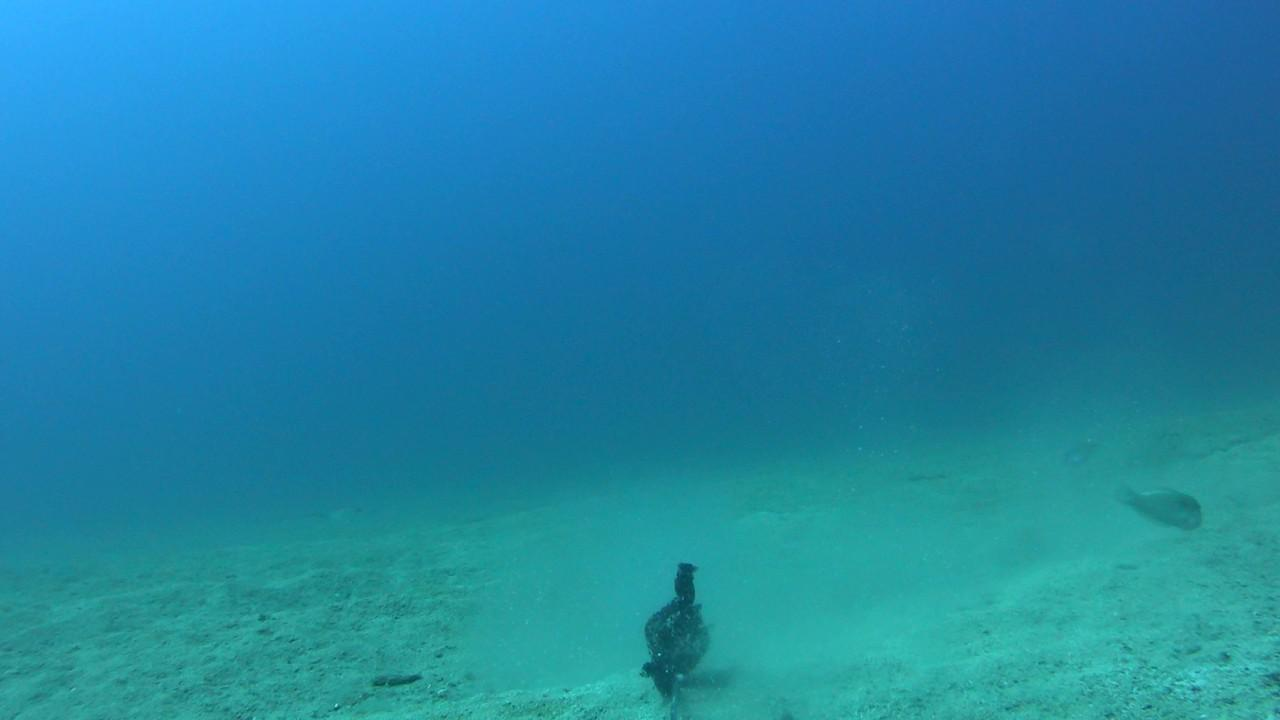myliobatis: (274, 476, 389, 538)
raor: (1109, 486, 1208, 536)
